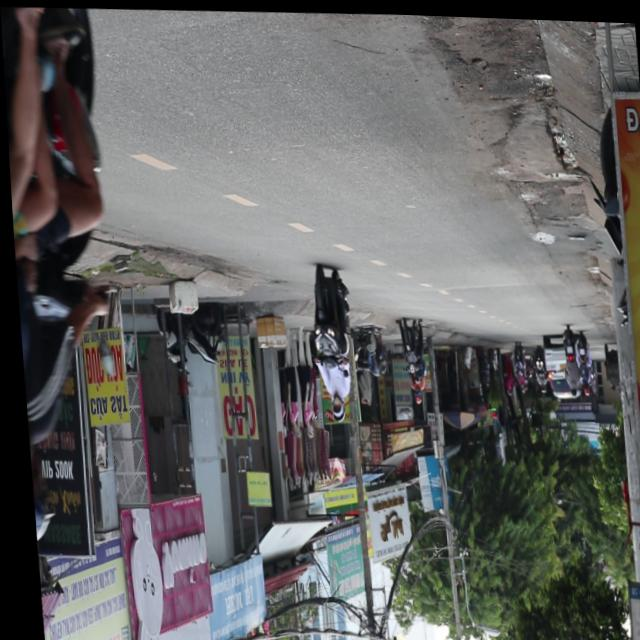helmet: (325, 390, 338, 418)
licenseplate: (300, 258, 354, 420)
